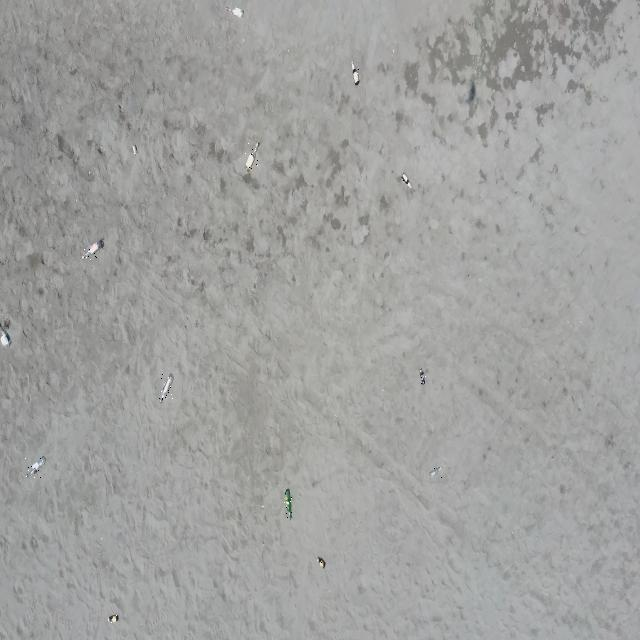glass: (159, 374, 173, 403), (245, 142, 259, 171), (25, 458, 44, 478), (82, 240, 101, 260), (284, 490, 292, 520), (0, 328, 10, 348), (225, 7, 243, 17), (401, 172, 412, 188), (352, 61, 359, 85), (429, 468, 442, 480), (420, 369, 426, 385), (317, 558, 325, 568), (108, 615, 117, 623), (132, 146, 137, 156)
